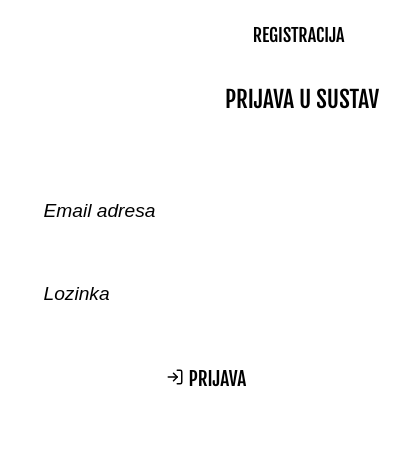
Test case: Renderiranje stranice za prijavu/registraciju › klikom na dugme promjene modula se modul prebaciva sa prijave na registraciju
This screenshot has width=413, height=453.
Click the button with class "dugme-modul". click: (299, 34)
box: [236,17,362,52]
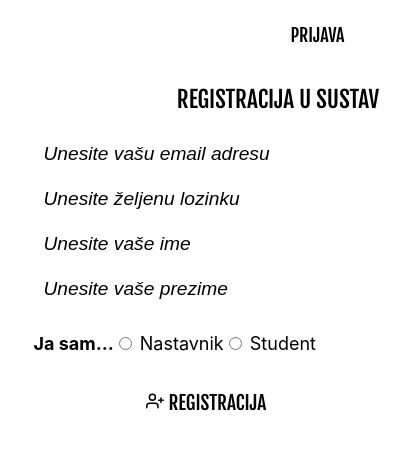
Result: the text "Registracija u sustav" is shown at [177,85,379,114]
Result: the button with class "dugme-modul" reads "Prijava" at [273,17,362,52]
Result: the form with class "forma-registracija" is shown
